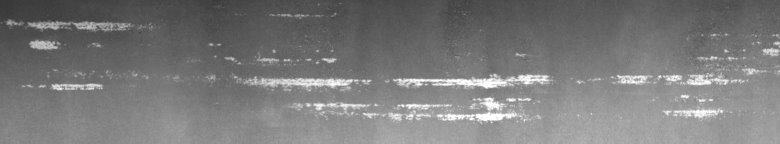kb: (4, 4, 776, 128)
